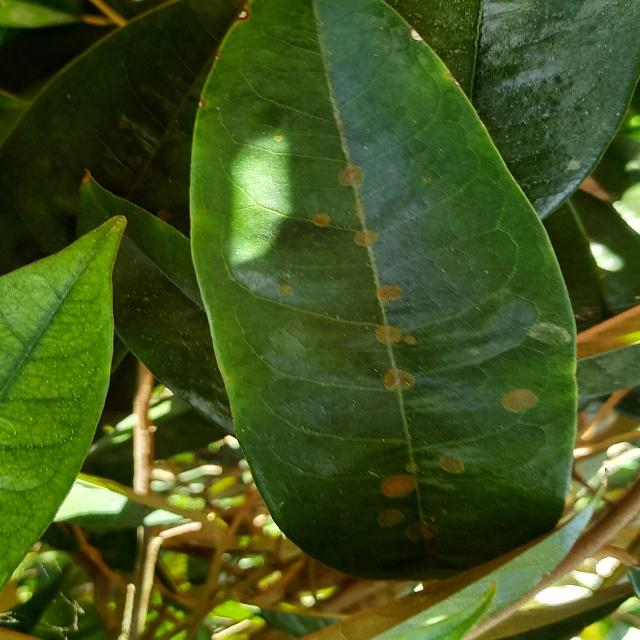Algal Leaf Spot: (179, 0, 585, 591)
